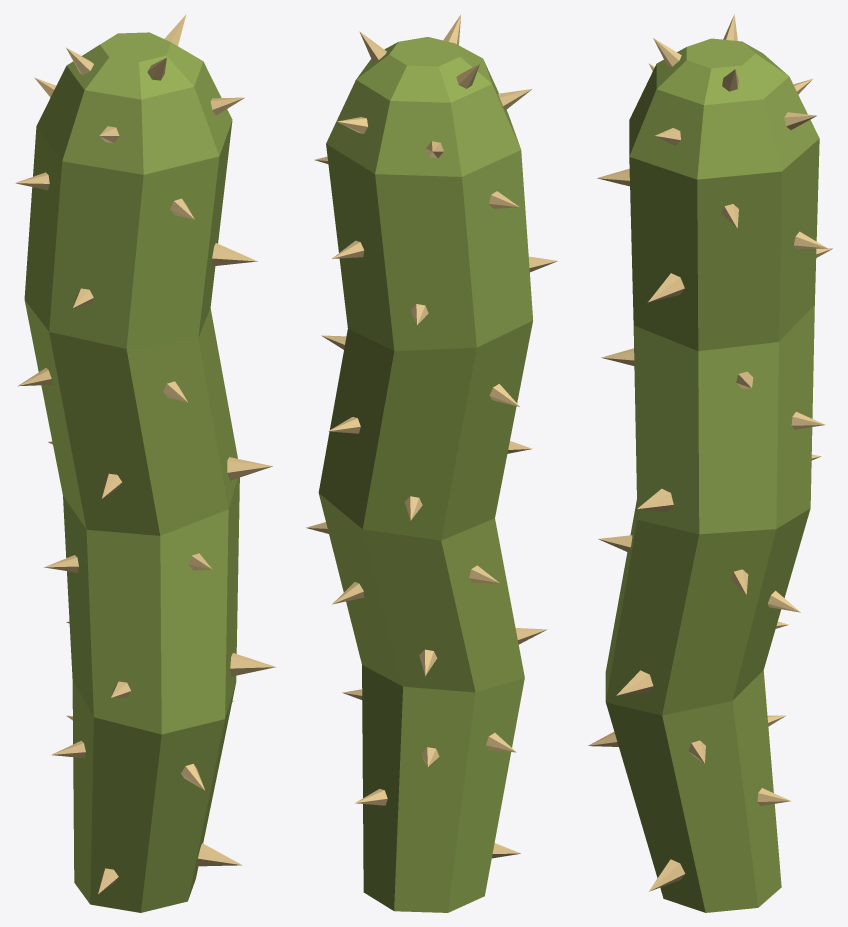
Rendered from Desert_Cactus2.fbx.
3 renders of one model, left to right at view 1: azimuth 30°, elevation 25°; view 2: azimuth 150°, elevation 25°; view 3: azimuth 270°, elevation 25°, orthographic.
Parts seen in each view (by area): view 1: Kaktus 2; view 2: Kaktus 2; view 3: Kaktus 2.
Boxes of the visible parts, x1,y1,x2,y2 form: Kaktus 2: (15, 14, 275, 912); Kaktus 2: (306, 15, 557, 912); Kaktus 2: (588, 14, 832, 912).
Size of the model in its own units: 232 by 879 by 231.
